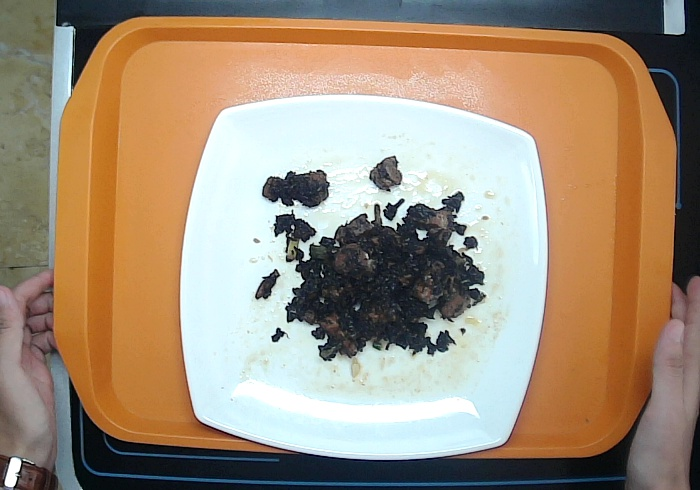ZNLD-Bai_Fang_Pan: (181, 86, 564, 472)
